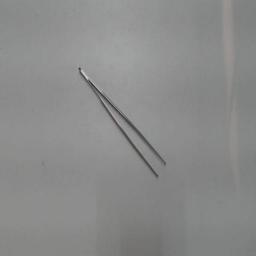Gillies Toothed Dissector: (76, 55, 178, 187)
